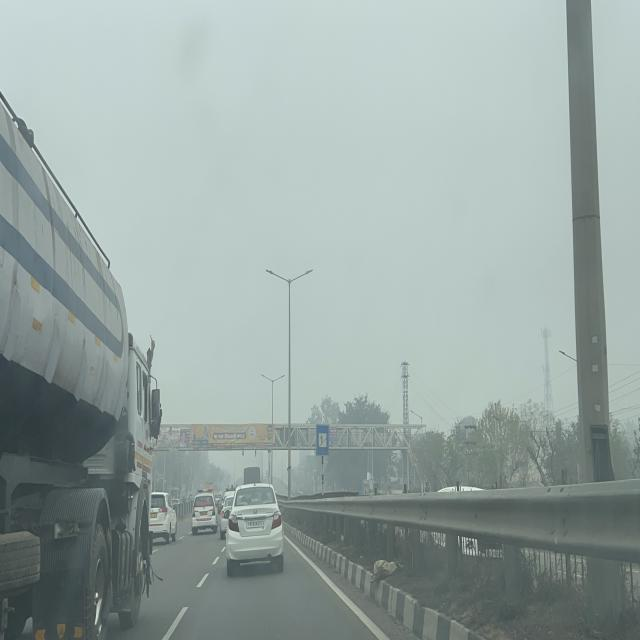INFORMATION: (316, 424, 329, 456)
